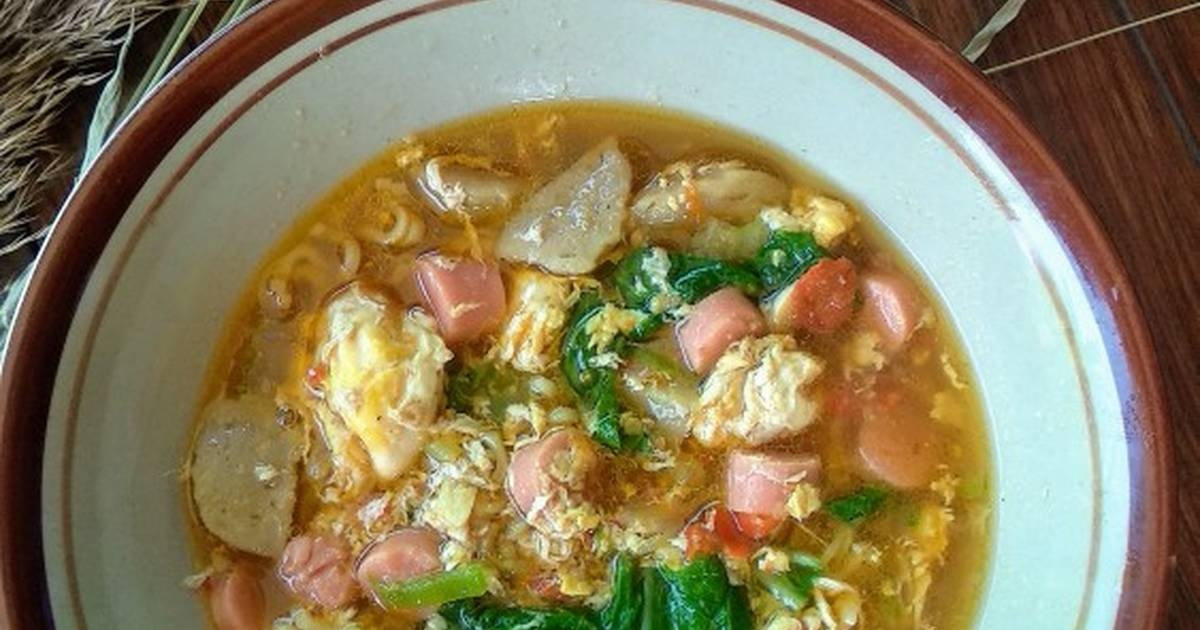seblak: (177, 97, 1002, 630)
